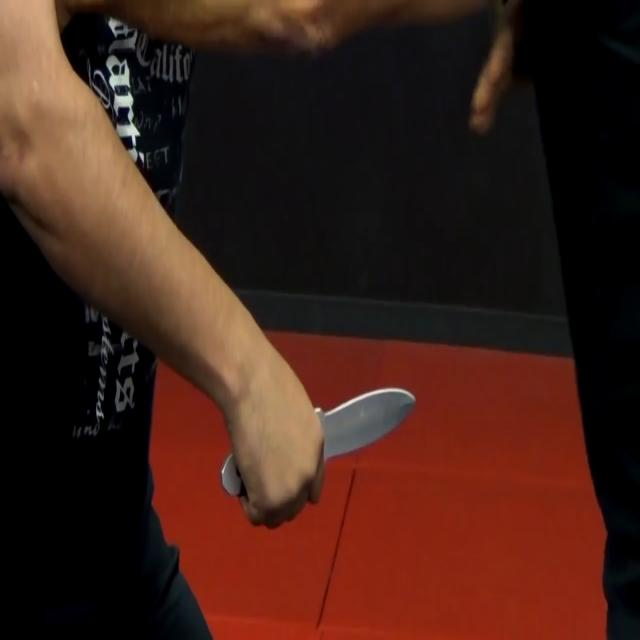knife: (321, 382, 422, 464)
